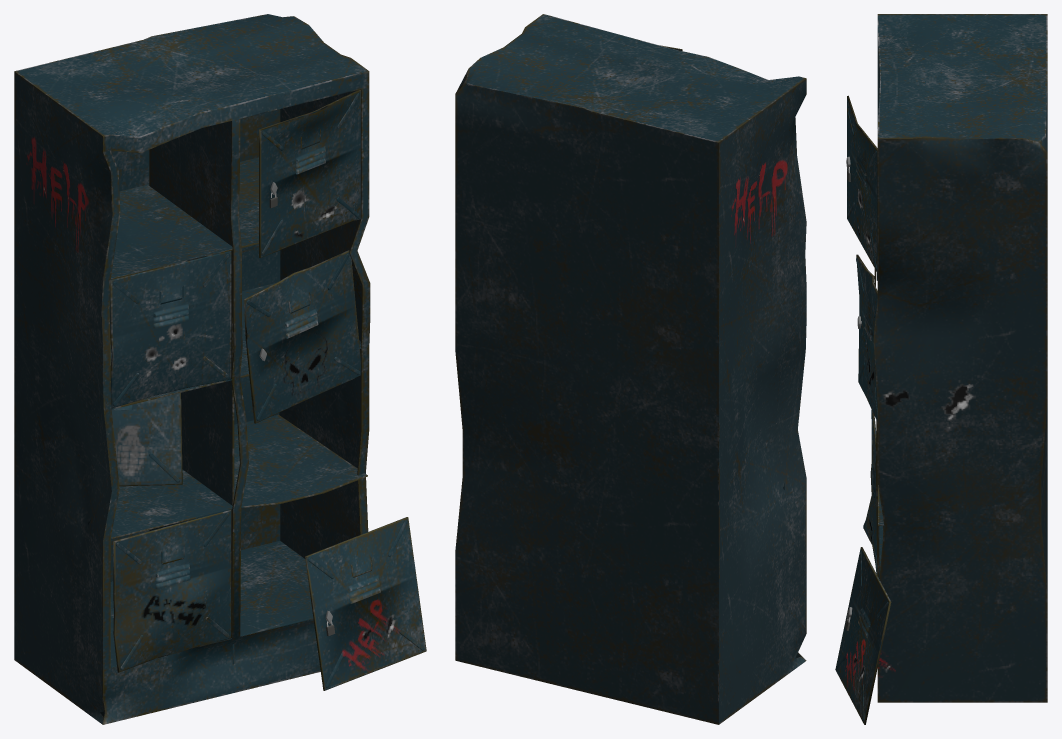
File: Locker_02.fbx
3 renders of one model, left to right at view 1: azimuth 30°, elevation 25°; view 2: azimuth 150°, elevation 25°; view 3: azimuth 270°, elevation 25°, orthographic. The views are drawn at different scales.
Parts seen in each view (by area): view 1: Locker; view 2: Locker; view 3: Locker.
Part boxes in pixels (bbox=[...]): Locker: bbox=[14, 14, 426, 724]; Locker: bbox=[455, 14, 806, 724]; Locker: bbox=[835, 14, 1047, 724].
Size of the model in its own units: 40.56 by 72.2 by 24.57.
Materials: 1 (1 with a texture image).
